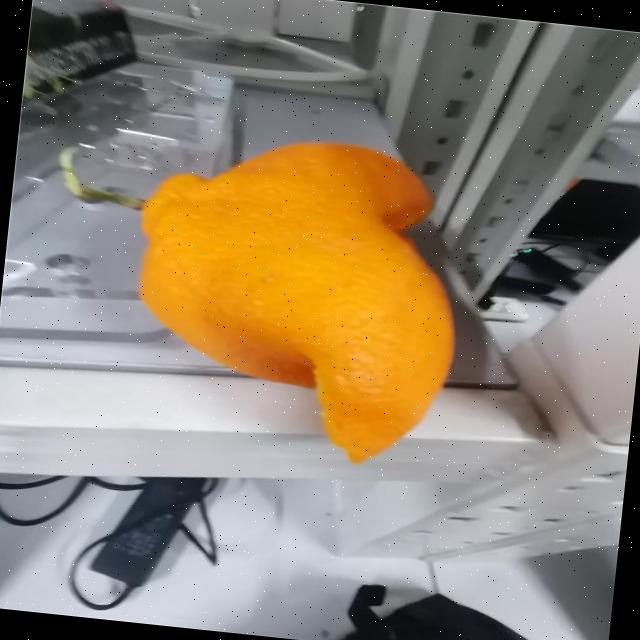orange-peel: (116, 119, 477, 472)
